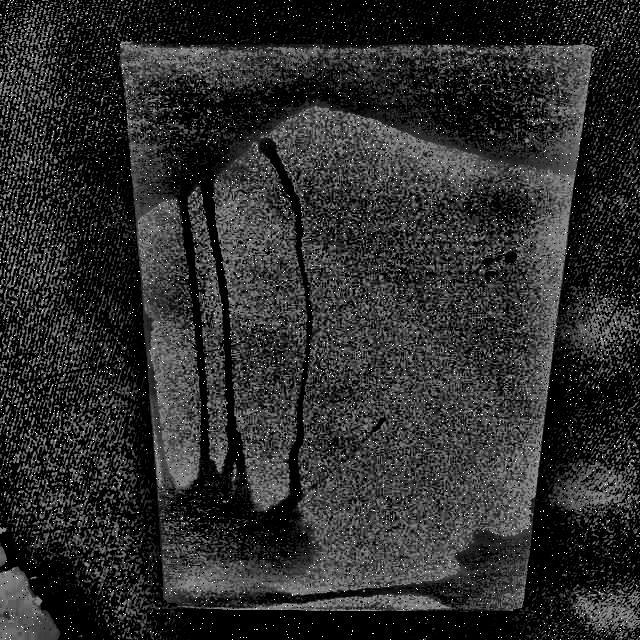box: (110, 37, 600, 620)
wet: (114, 32, 578, 201), (153, 474, 312, 612), (427, 526, 538, 616)
